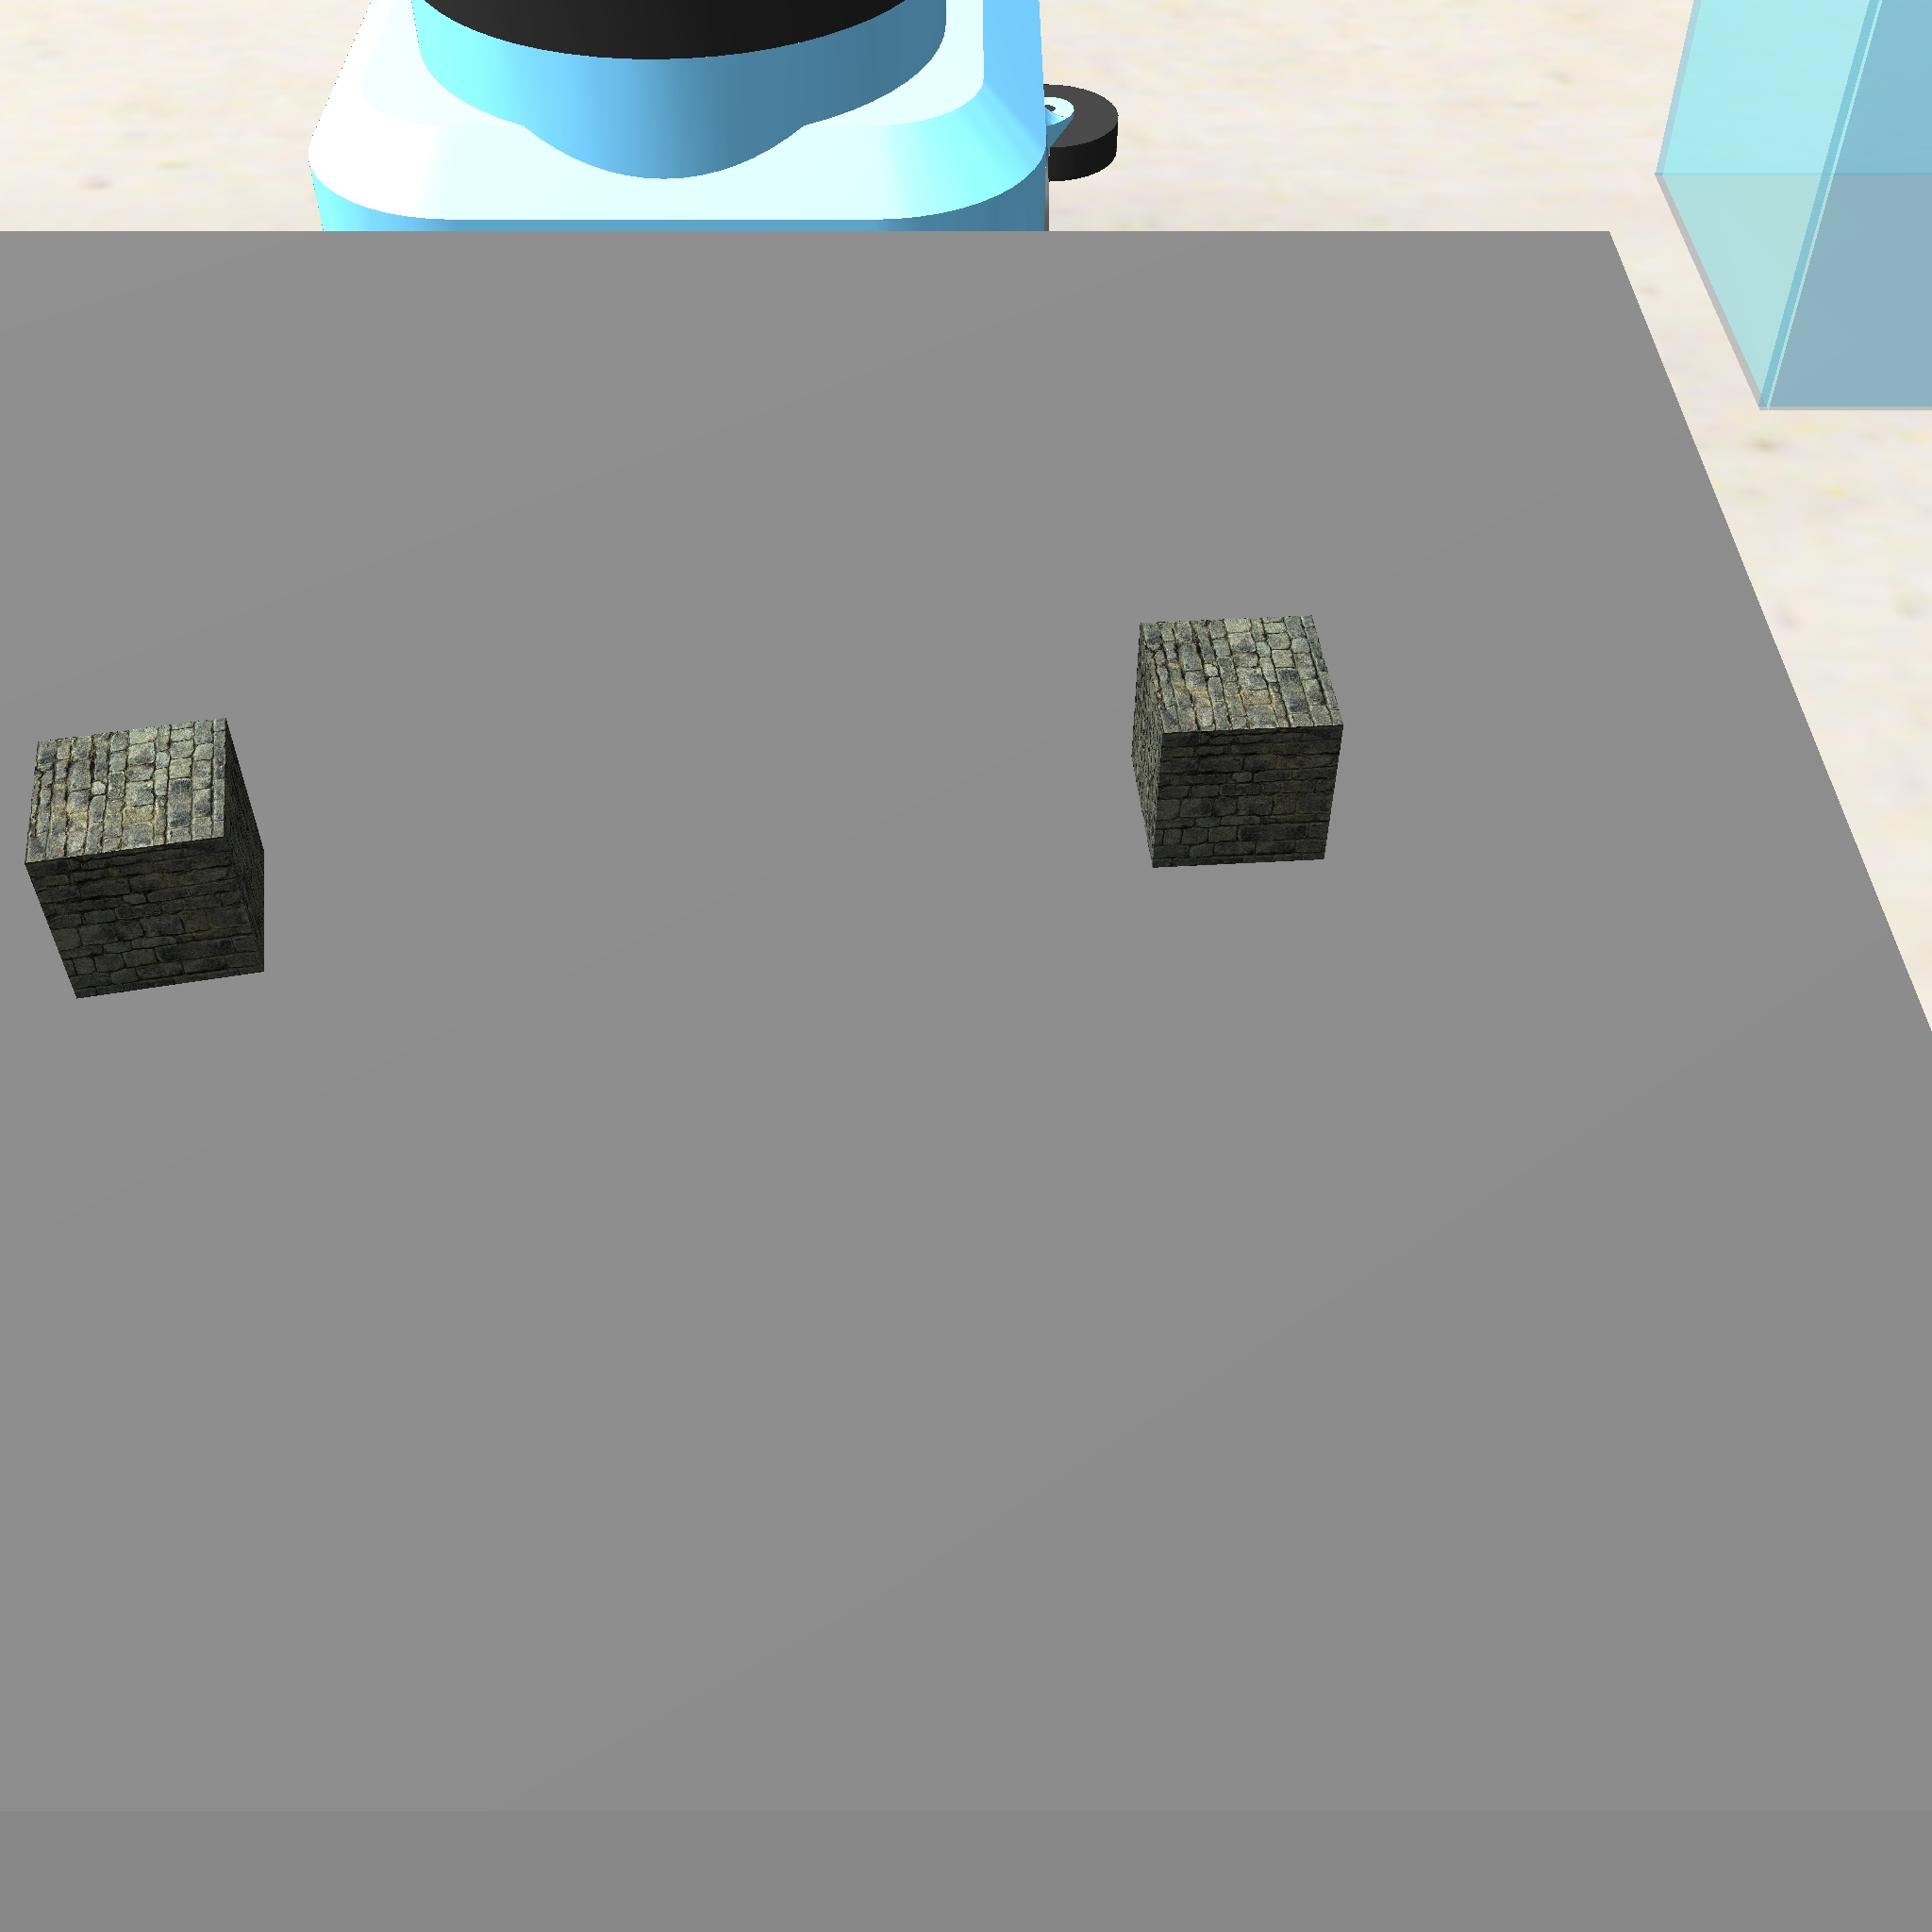cube: (19, 711, 274, 1003), (1125, 603, 1350, 883)
